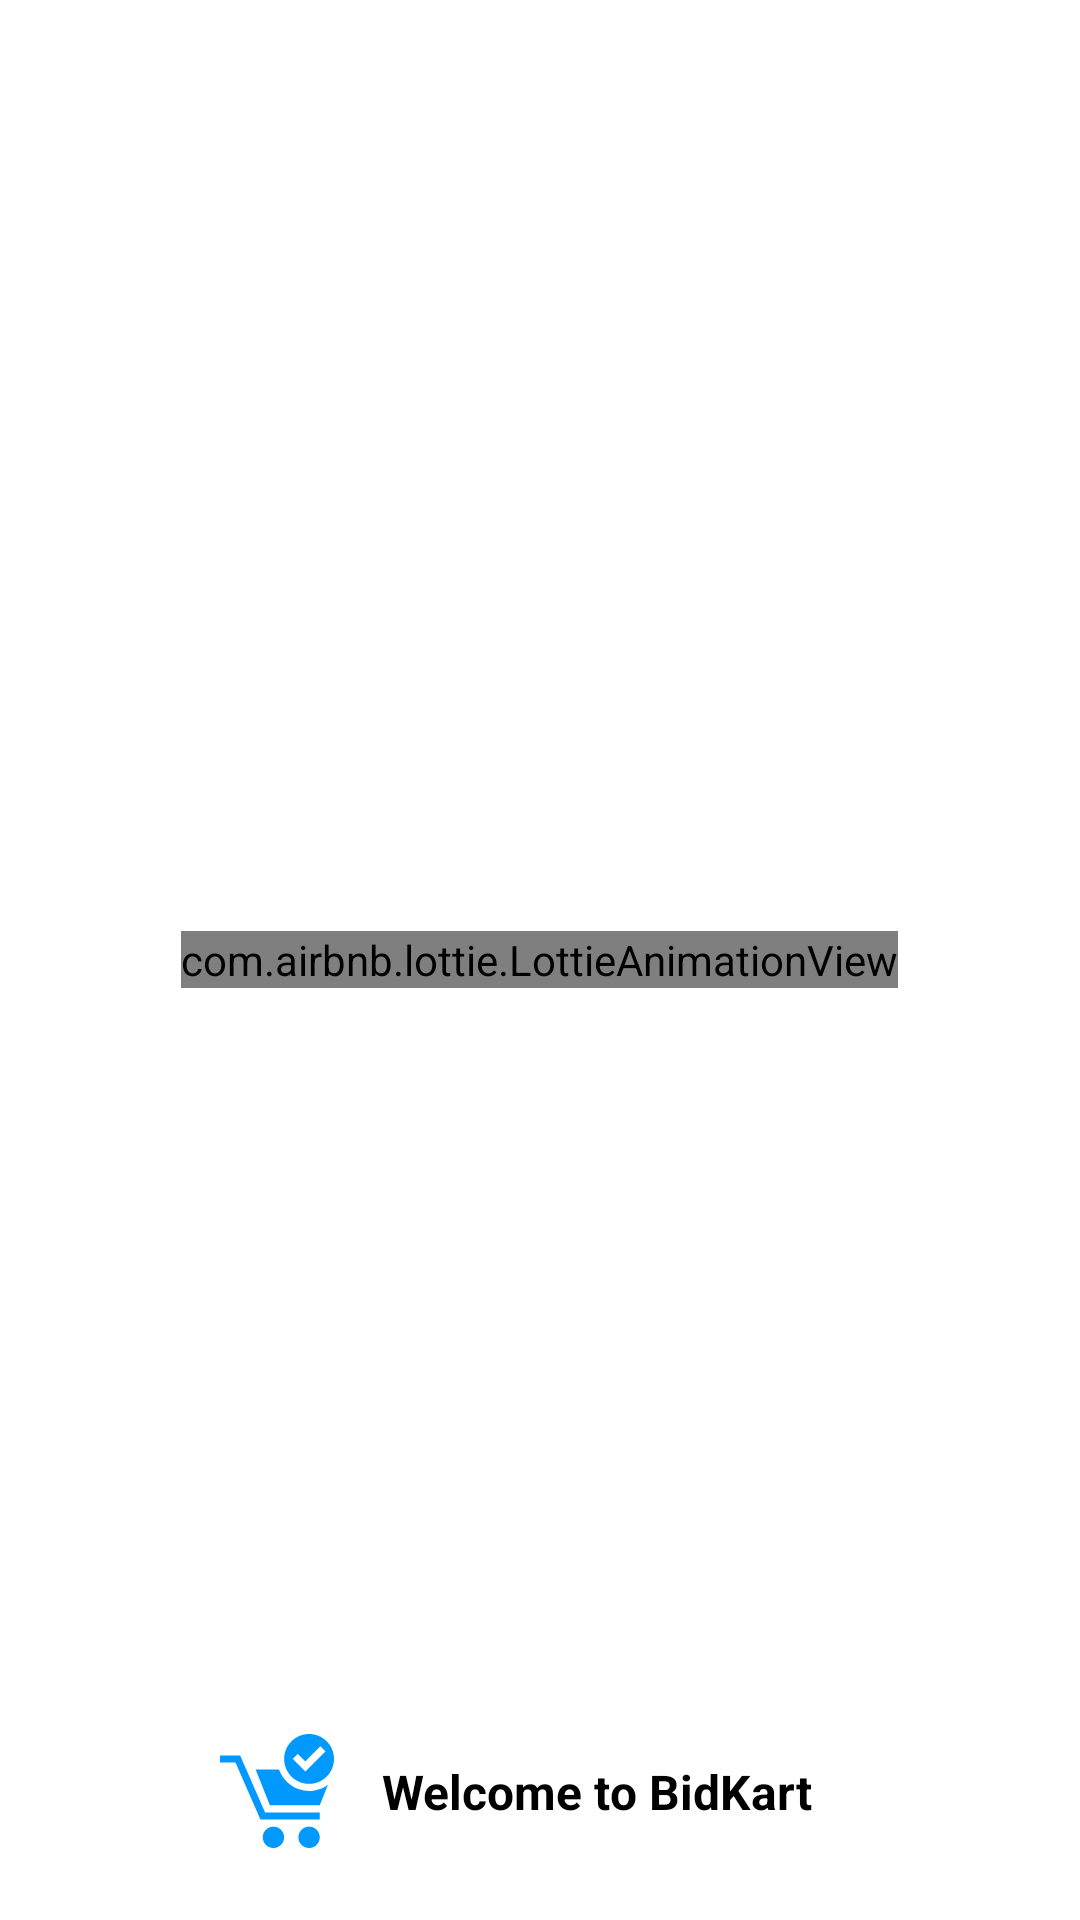

Icons on this 1080px×1920px Android screen, each with the point to tap as (x=x, y=y):
verify: (x=277, y=1791)
